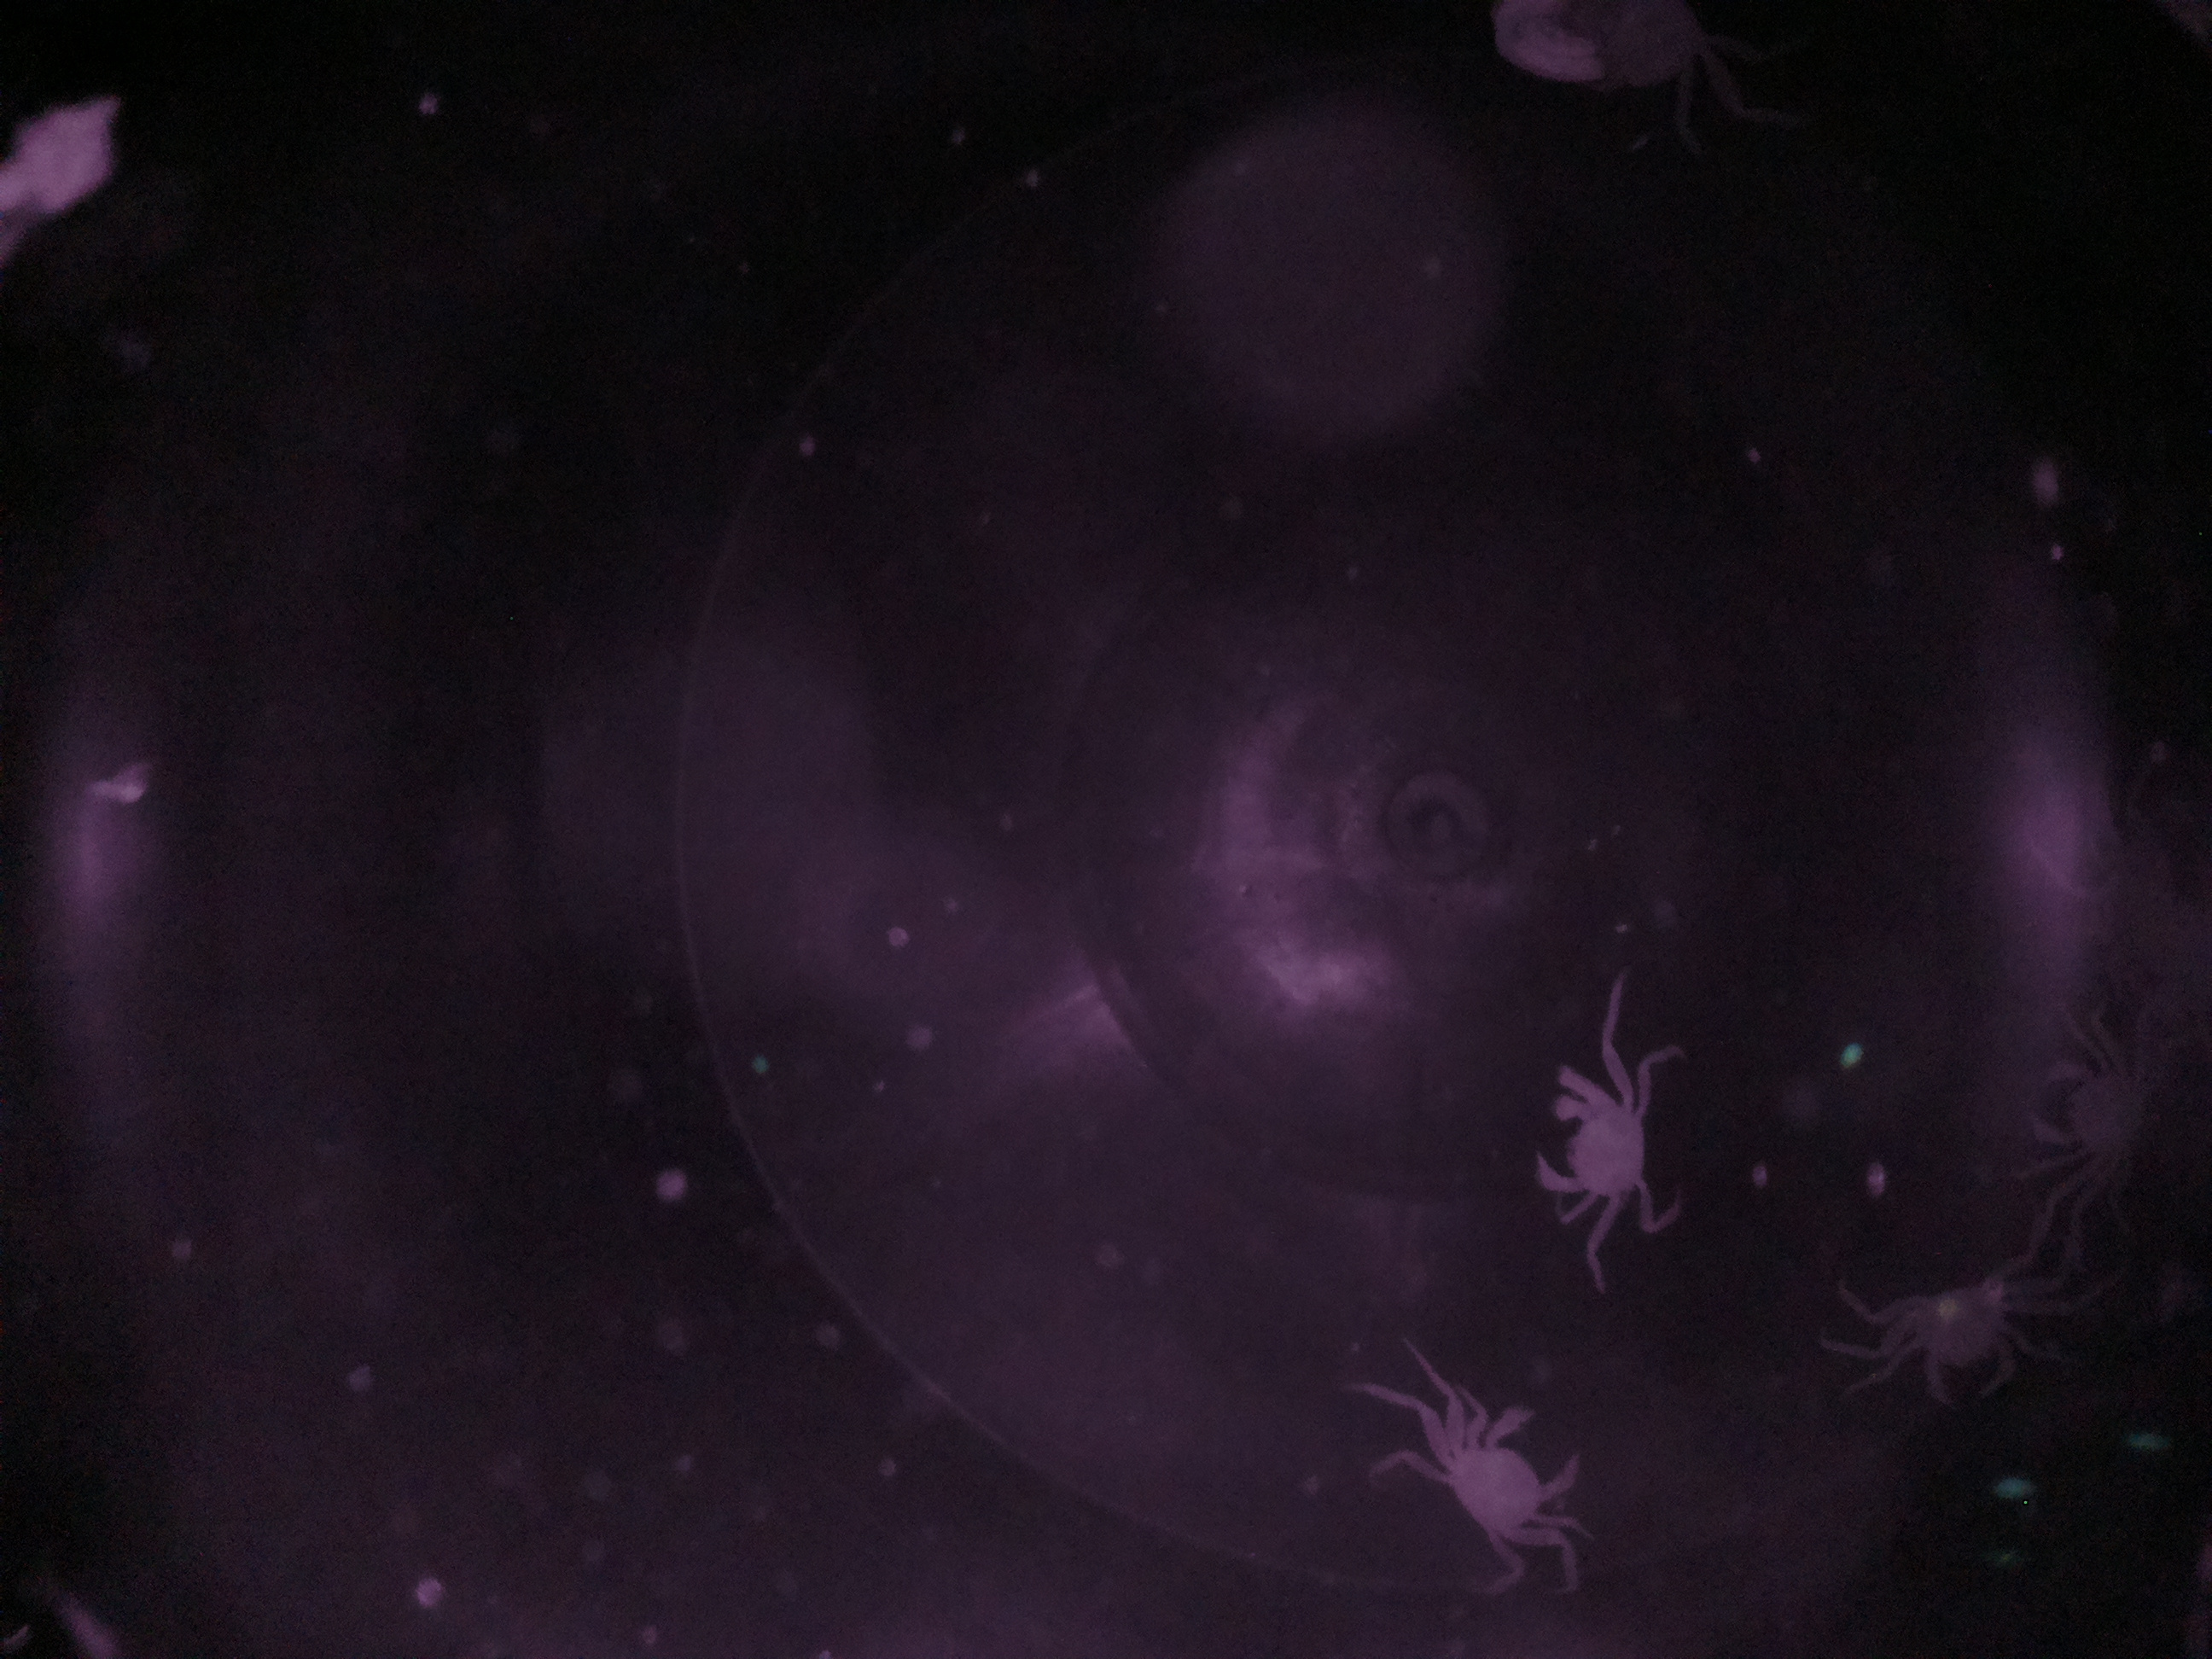Crab: (1435, 1377, 1594, 1579), (1522, 1032, 1669, 1229)
